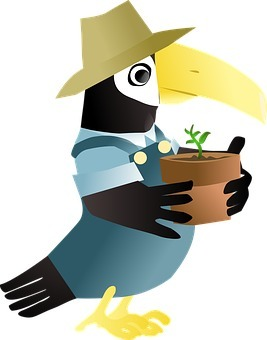bird: (6, 14, 266, 333)
pottedplant: (157, 123, 242, 232)
